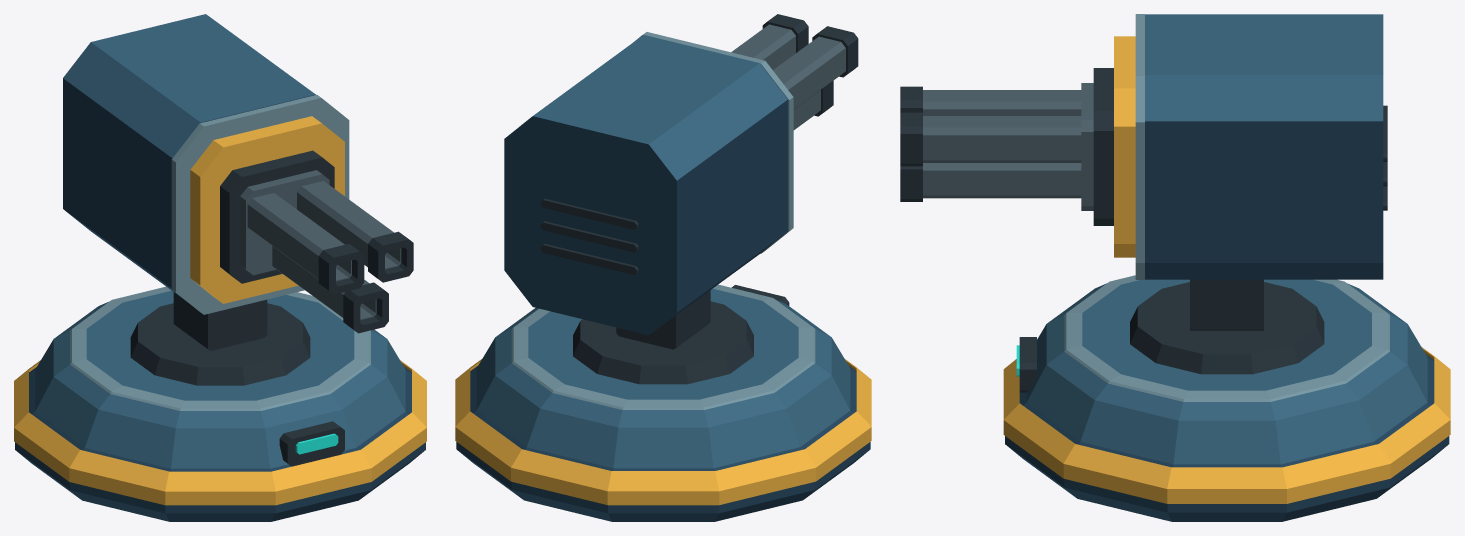
Rendered from MachineGunLevel1.obj.
The picture shows the model from 3 angles, left to right: view 1: azimuth 30°, elevation 25°; view 2: azimuth 150°, elevation 25°; view 3: azimuth 270°, elevation 25°; orthographic projection. The views are drawn at different scales.
Visible parts, largest first — view 1: UpperPlinth, UpperArmor, GoldBelt, Housing, GoldMantlet, Turntable, FrontRim, Foundation, TopRim, Breech, Barrel0, Barrel1 (+8 smaller); view 2: Housing, UpperPlinth, UpperArmor, GoldBelt, Turntable, Foundation, TopRim, Barrel0, Support, Barrel1, FrontRim, RearVent1 (+5 smaller); view 3: UpperPlinth, Housing, UpperArmor, GoldBelt, Turntable, Foundation, Barrel1, TopRim, Barrel2, GoldMantlet, Barrel0, Support (+7 smaller).
Part boxes in pixels (box(x1,y1,x2,y2)): UpperPlinth: box(35, 290, 405, 468); UpperArmor: box(63, 14, 315, 157); GoldBelt: box(14, 360, 426, 505); Housing: box(63, 78, 315, 300); GoldMantlet: box(190, 116, 344, 303); Turntable: box(130, 303, 310, 385); FrontRim: box(171, 95, 349, 314); Foundation: box(15, 367, 425, 521); TopRim: box(70, 286, 370, 410); Breech: box(220, 150, 334, 283); Barrel0: box(247, 193, 351, 281); Barrel1: box(297, 181, 401, 269); Housing: box(504, 100, 787, 335); UpperPlinth: box(476, 288, 850, 468); UpperArmor: box(533, 35, 787, 180); GoldBelt: box(455, 359, 871, 505); Turntable: box(573, 301, 753, 384); Foundation: box(456, 366, 870, 521); TopRim: box(511, 284, 815, 409); Barrel0: box(773, 36, 845, 109); Support: box(616, 290, 710, 349); Barrel1: box(731, 24, 795, 69); FrontRim: box(634, 32, 793, 253); RearVent1: box(540, 221, 638, 252); UpperPlinth: box(1026, 279, 1427, 464); Housing: box(1145, 121, 1383, 279); UpperArmor: box(1145, 14, 1383, 121); GoldBelt: box(1003, 347, 1450, 503); Turntable: box(1130, 282, 1324, 374); Foundation: box(1005, 354, 1449, 521); Barrel1: box(923, 116, 1081, 162); TopRim: box(1064, 275, 1389, 401); Barrel2: box(923, 163, 1081, 198); GoldMantlet: box(1114, 36, 1135, 257); Barrel0: box(923, 90, 1081, 115); Support: box(1190, 279, 1263, 330).
Size of the model in its own units: 2.18 by 2.1 by 2.68.
